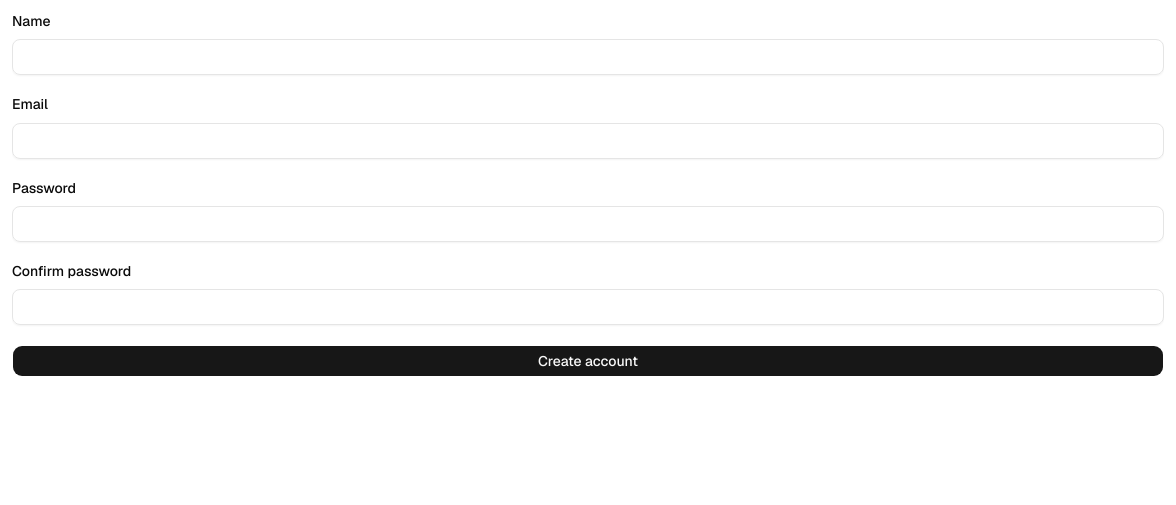
Test: RegisterForm › validates required fields
What coordinates should you click on to do the following:
click the button "Create account"
I would click on:
 (588, 361)
Its box is [12, 345, 1164, 377].
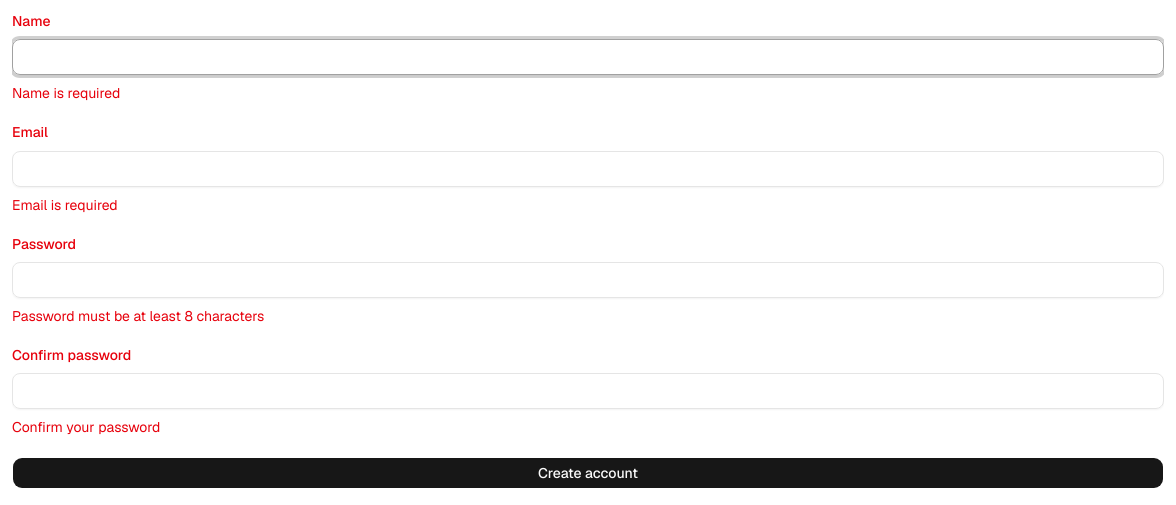
Result: the text "Name is required" is shown at [12, 84, 120, 102]
Result: the text "Email is required" is shown at [12, 196, 118, 214]
Result: the text "Password must be at least 8 characters" is shown at [12, 307, 264, 325]
